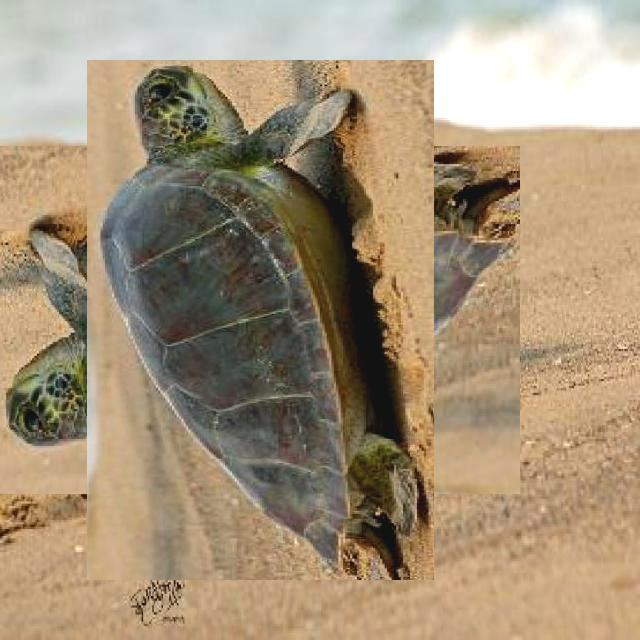Sea turtle: (43, 103, 477, 537)
